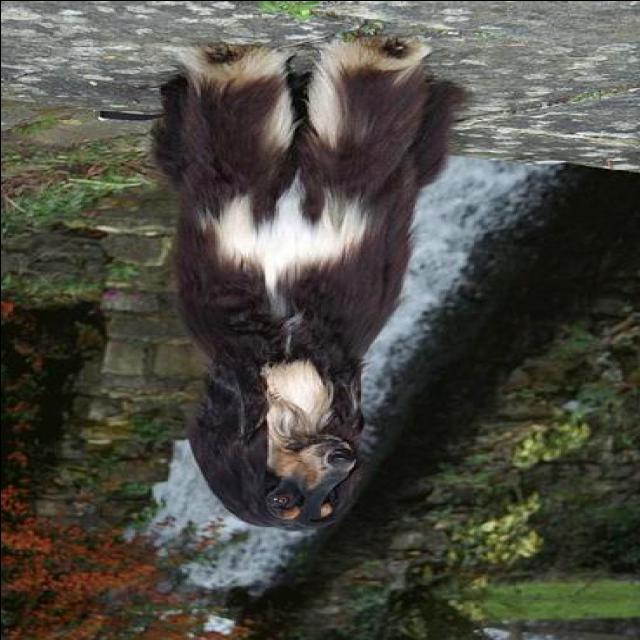afghan_hound: (153, 31, 473, 535)
